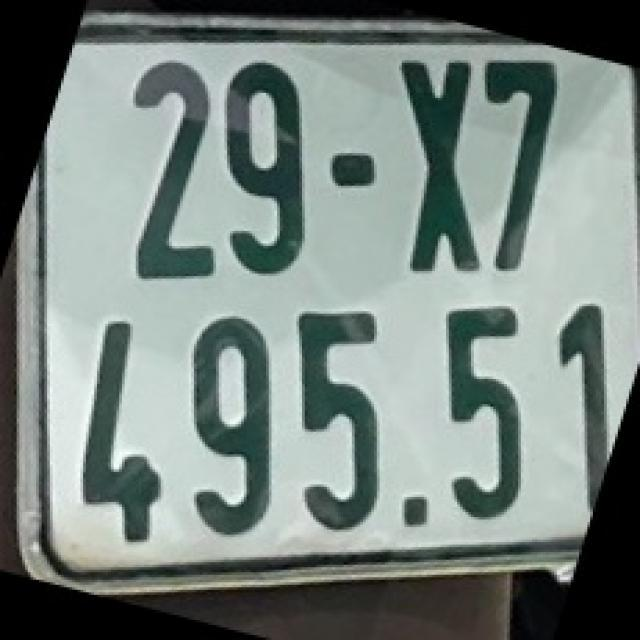1: (552, 297, 614, 498)
2: (119, 52, 222, 284)
4: (69, 311, 172, 550)
5: (291, 301, 391, 535), (435, 298, 532, 524)
7: (484, 58, 562, 272)
9: (183, 311, 280, 540), (219, 58, 316, 278)
X: (396, 55, 482, 274)
